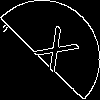X: (25, 25, 80, 81)
